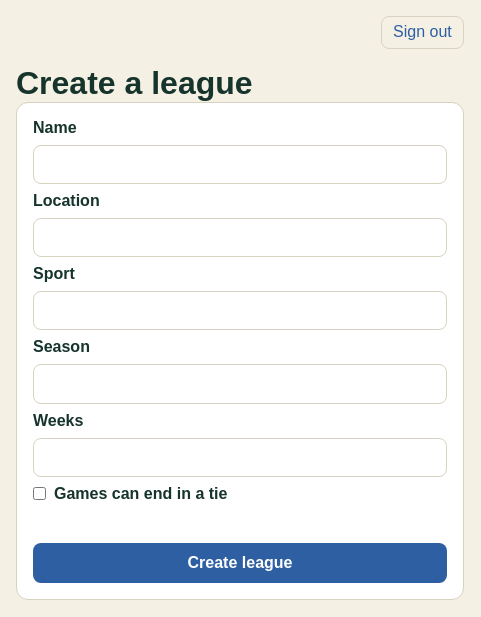
Scenario: a 400 shows the backend's message and stays on the form
Type "Tuesday Cornhole" into the field labelled "Name". click: (240, 164)
box: top-left (33, 145), bottom-right (447, 184)
Type "Joe's Tavern" into the field labelled "Location". click: (240, 238)
box: top-left (33, 218), bottom-right (447, 257)
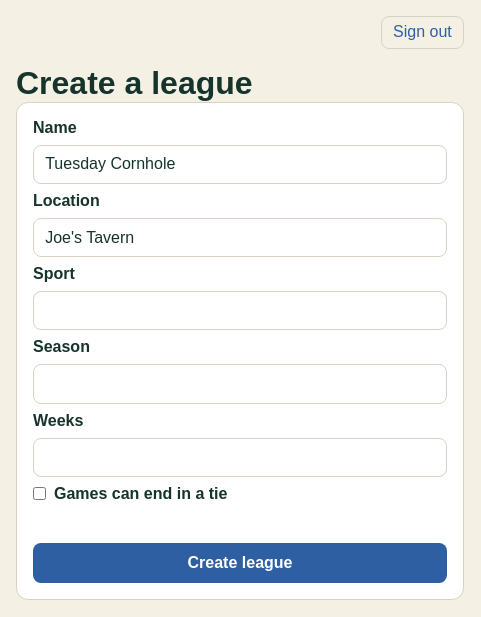
Type "Cornhole" into the field labelled "Sport". click: (240, 311)
box: top-left (33, 291), bottom-right (447, 330)
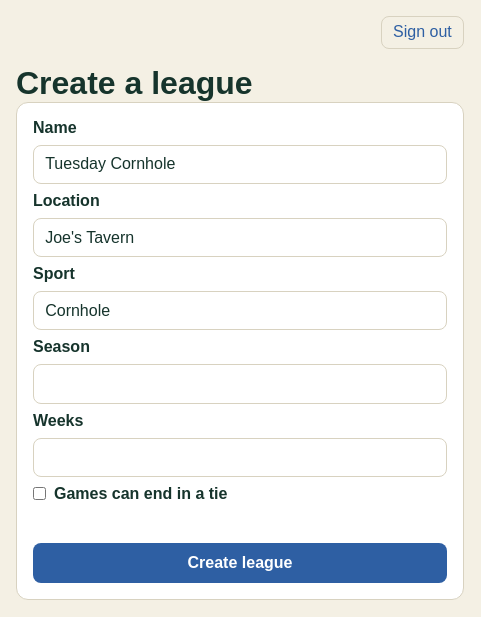
Type "Fall 2026" into the field labelled "Season". click: (240, 384)
box: top-left (33, 364), bottom-right (447, 404)
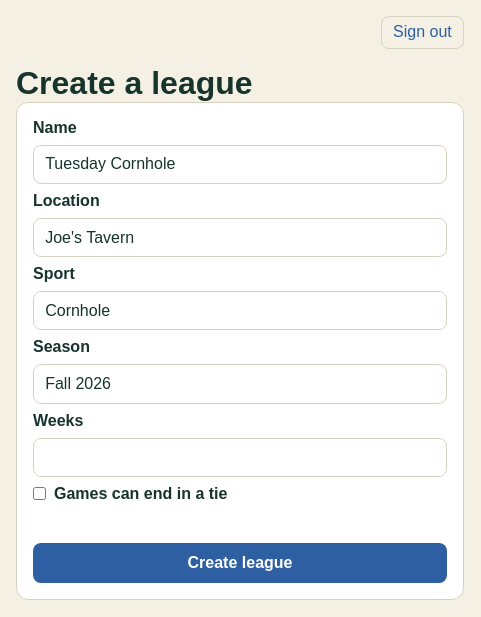
Type "8" into the number field labelled "Weeks". click: (240, 457)
box: top-left (33, 438), bottom-right (447, 477)
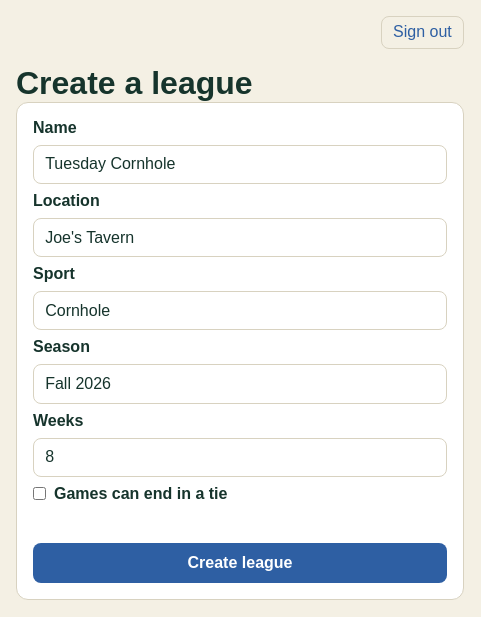
Clear the field labelled "Location". click: (240, 238)
box: top-left (33, 218), bottom-right (447, 257)
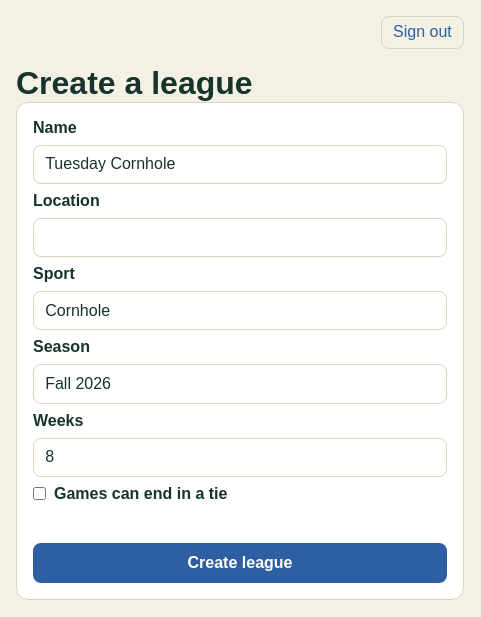
Click the button "Create league". click: (240, 563)
box: top-left (33, 543), bottom-right (447, 583)
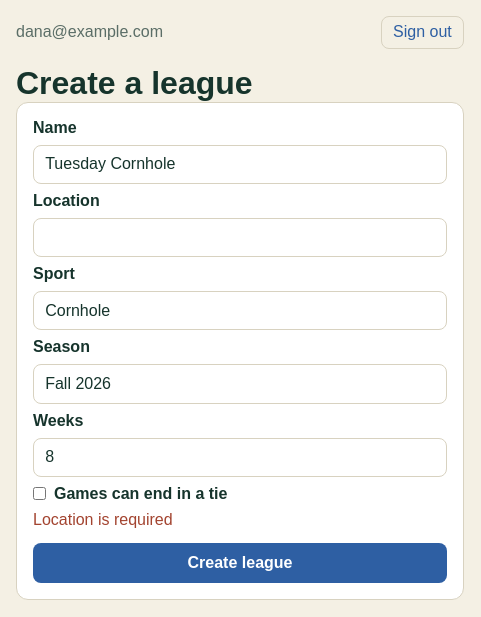
Now the text "Location is required" is shown, box top-left (33, 511), bottom-right (173, 528)
